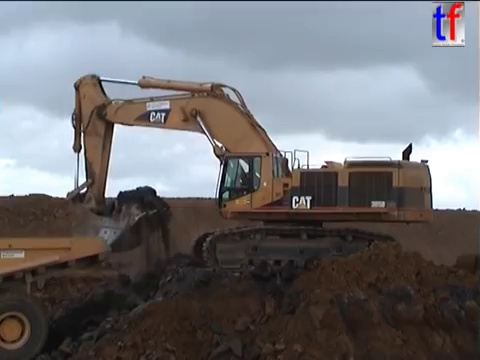excavator: (63, 70, 437, 281)
truck: (1, 232, 114, 360)
